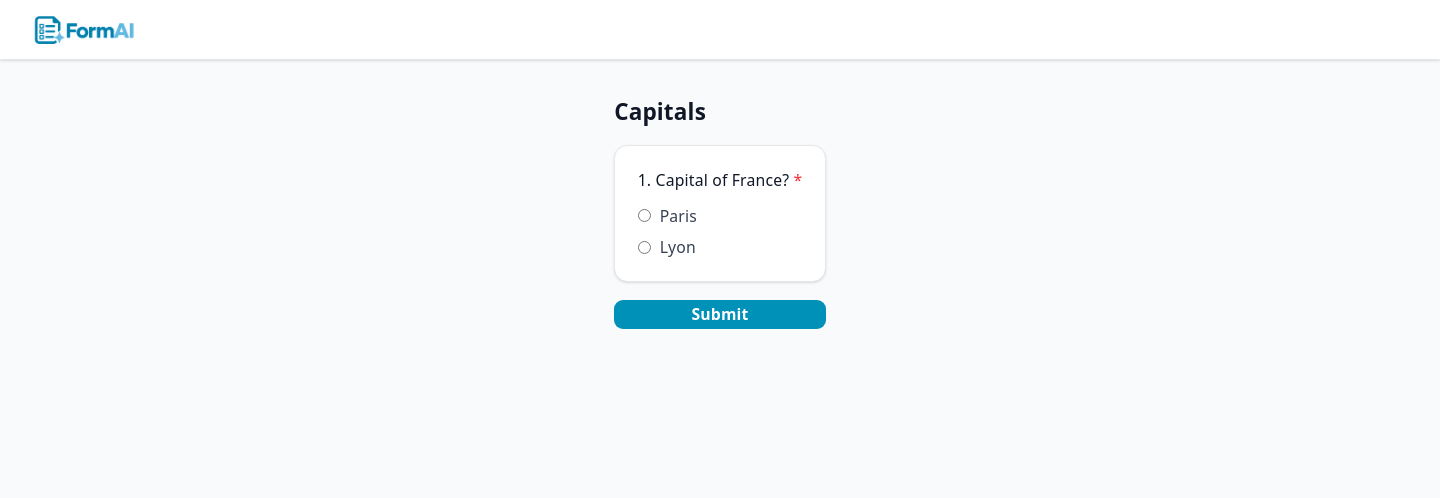
it: FormAnswerPage › shows the score out of the maximum after submitting
Click the radio button labelled "Paris" at (644, 216), box [638, 209, 651, 222]
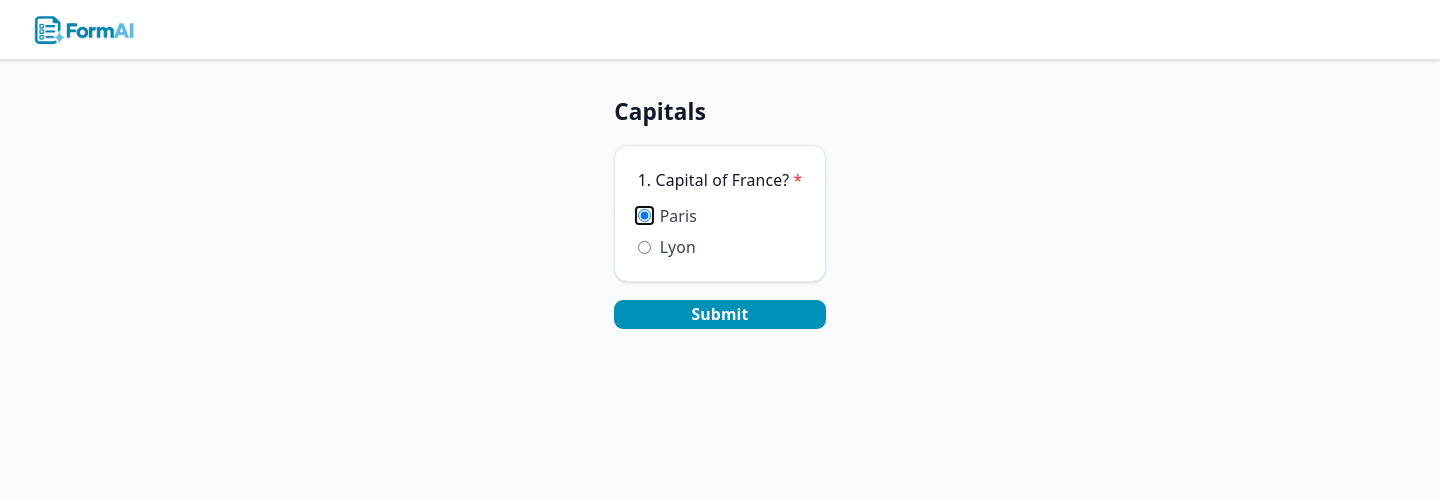
Click the button "Submit" at (720, 314), box [614, 300, 826, 329]
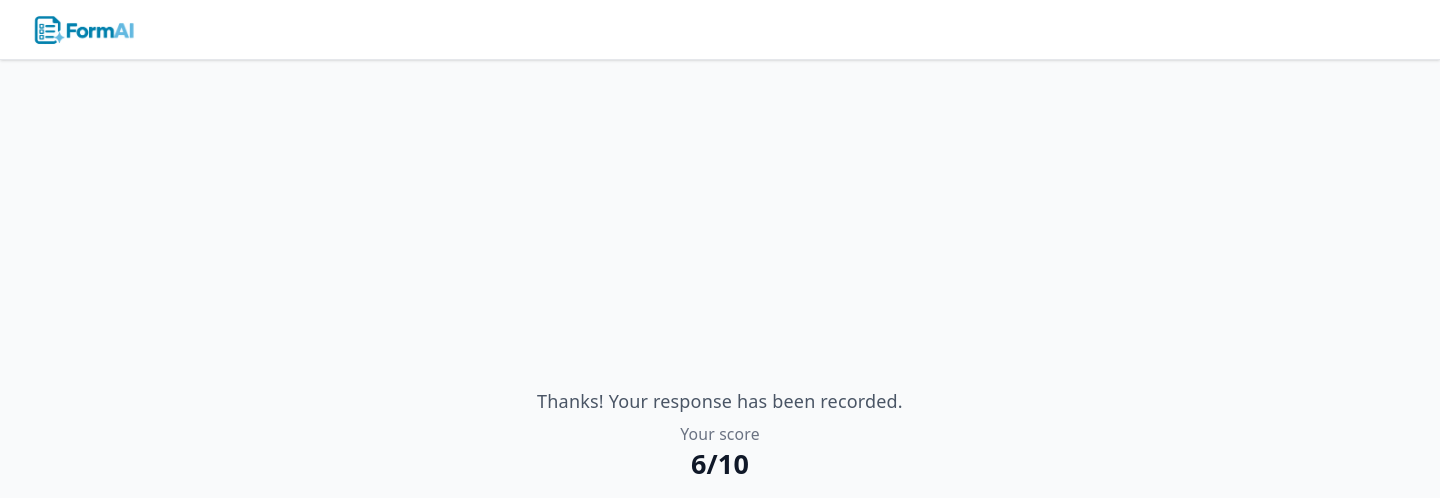
Expected: the text "Thanks! Your response has been recorded." is shown, [537, 388, 903, 414]
Expected: the text "6/10" is shown, [691, 444, 749, 482]
